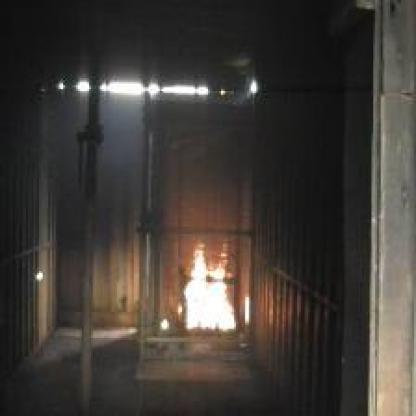fire: (152, 232, 252, 332)
other: (52, 74, 258, 100), (33, 264, 45, 281)
